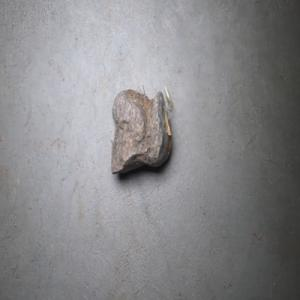Rock: (110, 85, 172, 174)
